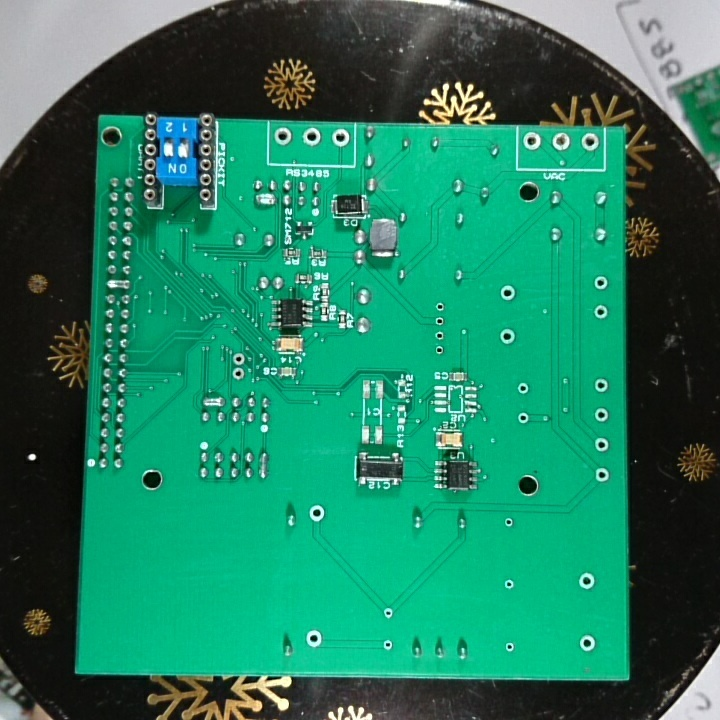F: (549, 130, 573, 154), (302, 626, 326, 650), (300, 126, 324, 149), (305, 502, 328, 526), (579, 130, 601, 154), (521, 130, 543, 153), (577, 570, 598, 594), (271, 126, 294, 147), (330, 127, 351, 149), (577, 632, 597, 655), (591, 404, 612, 425), (591, 465, 613, 485), (496, 326, 516, 348), (497, 283, 519, 303), (592, 435, 611, 455), (591, 273, 609, 292), (592, 376, 610, 395), (514, 380, 532, 399), (380, 635, 396, 655), (591, 303, 609, 320), (514, 409, 532, 426), (228, 366, 248, 381), (502, 575, 518, 593), (229, 350, 247, 366), (502, 636, 517, 655), (381, 604, 396, 622), (433, 313, 448, 329), (433, 343, 448, 359), (501, 514, 514, 532), (432, 300, 448, 314), (432, 328, 448, 342)
P: (102, 276, 133, 292), (257, 451, 271, 482), (252, 190, 278, 206), (200, 395, 226, 410)
